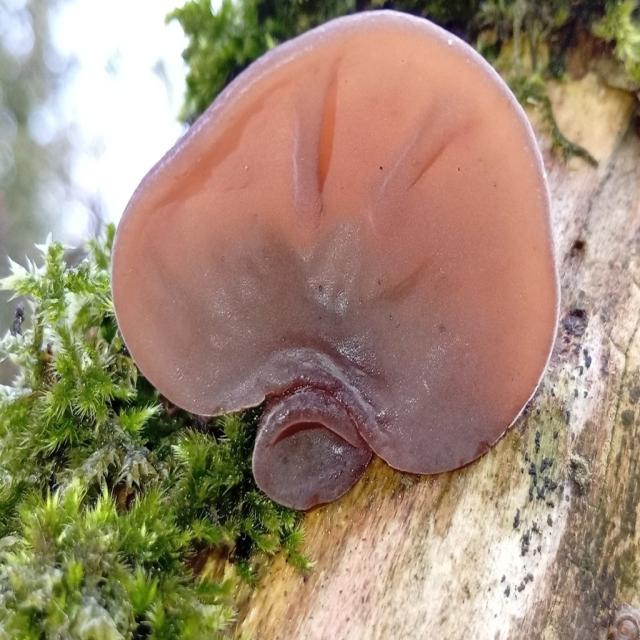Fase Muda: (248, 384, 376, 512)
Matang: (106, 2, 566, 482)
